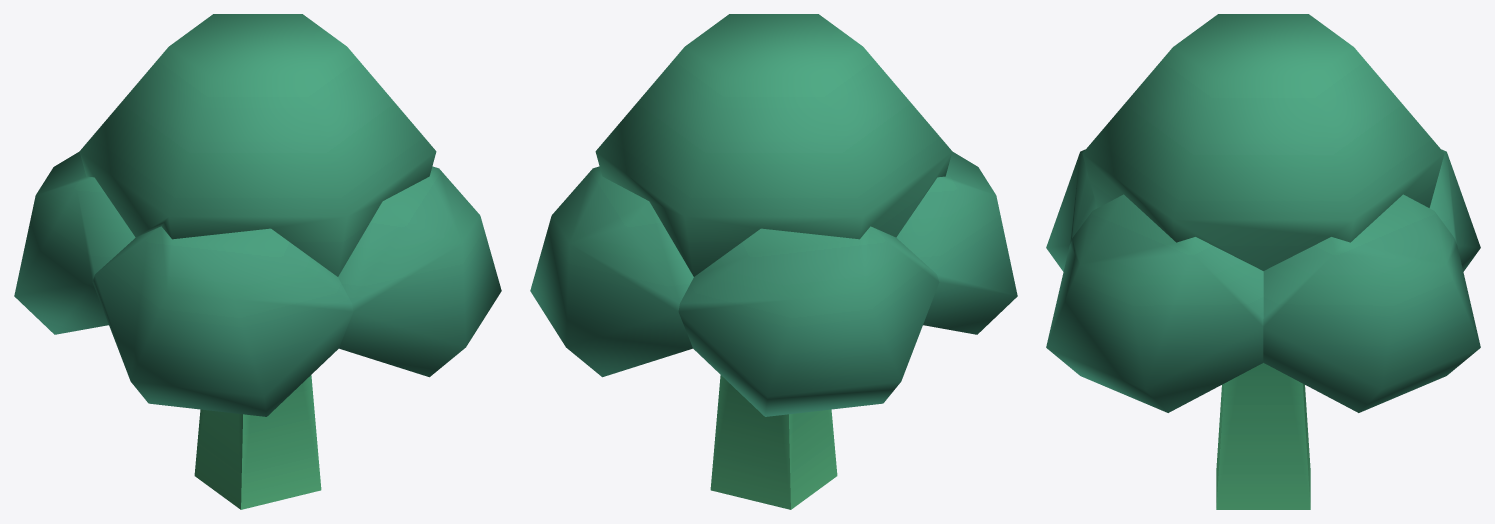
Rendered from broccoli-harvest.glb.
3 renders of one model, left to right at view 1: azimuth 30°, elevation 25°; view 2: azimuth 150°, elevation 25°; view 3: azimuth 270°, elevation 25°, orthographic.
Visible parts, largest first — view 1: broccoli; view 2: broccoli; view 3: broccoli.
Boxes of the visible parts, x1,y1,x2,y2 form: broccoli: (14,14,501,509); broccoli: (530,14,1017,509); broccoli: (1046,14,1480,509).
Bounding box in the file's own units: 0.8898 × 1 × 0.8898.
1 material, 1 textured.
